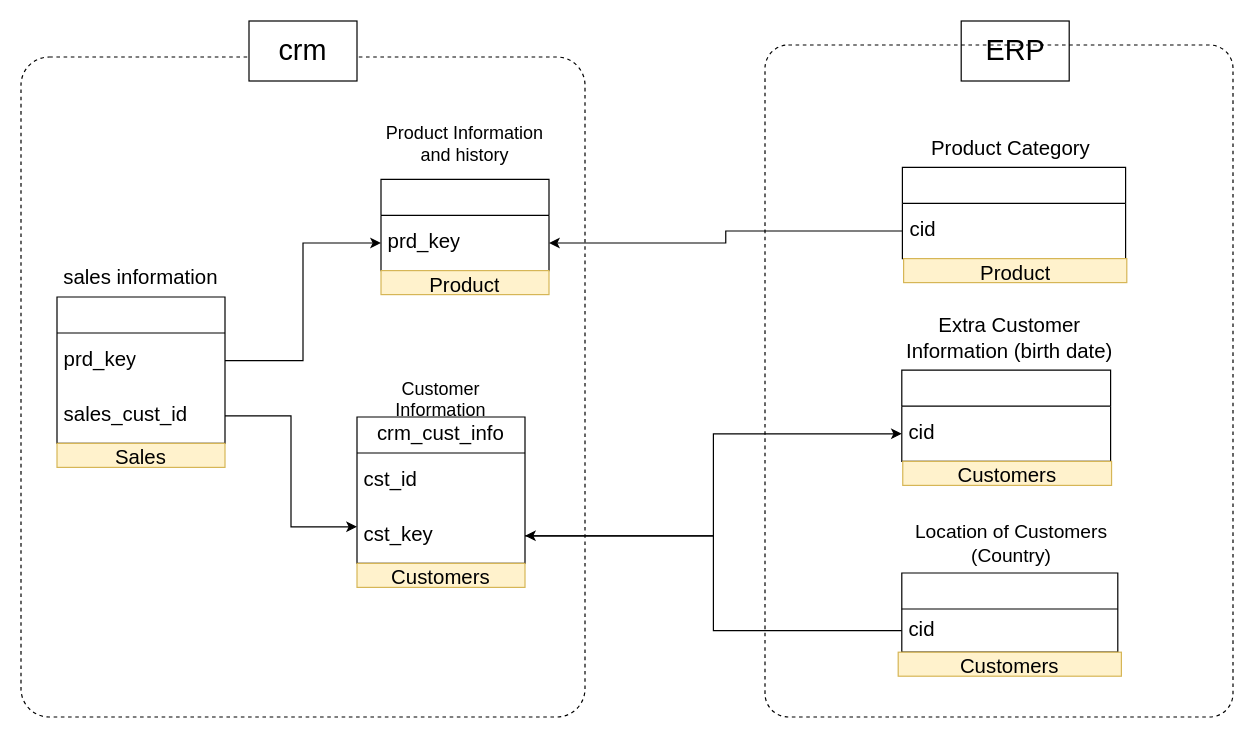
The diagram is 1254 pixels wide and 738 high, and some of its shapes have lost their labels. Each missing label, with the box of its shape:
crm_prd_info: (380, 178, 549, 271)
crm_sales_details: (56, 296, 225, 443)
erp_cust_az12: (901, 369, 1111, 461)
erp_loc_a101: (901, 572, 1118, 652)
erp_px_cat_g1v2: (901, 166, 1126, 259)
